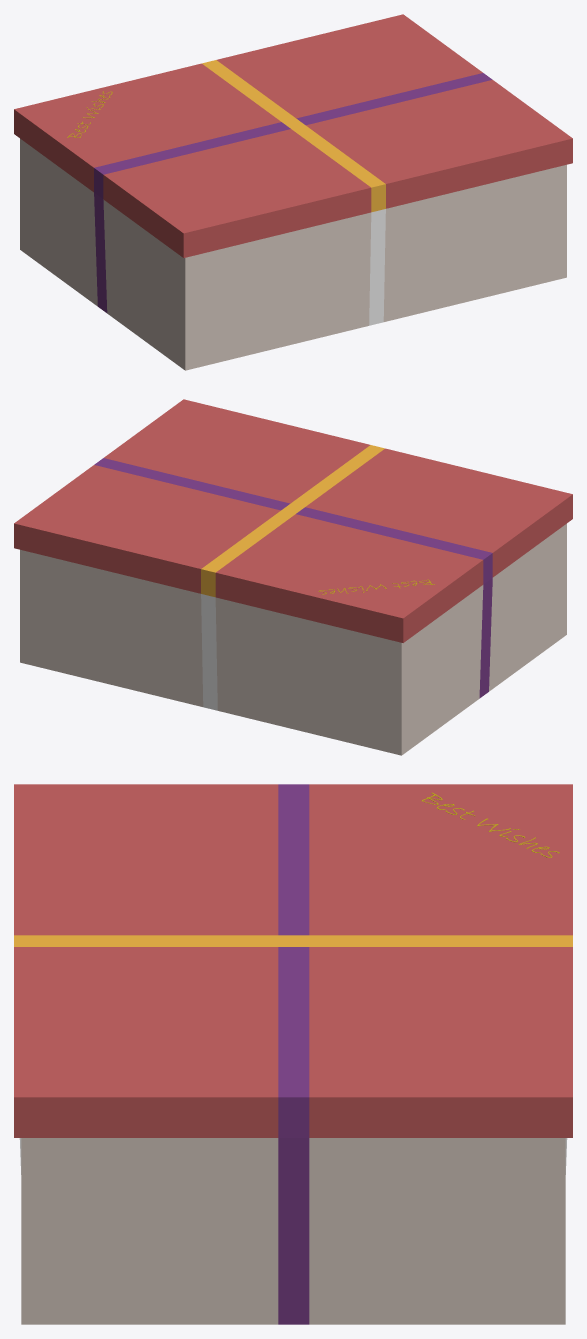
File: Gift+Box.obj
3 views of the same model, one above another, from view 1: azimuth 30°, elevation 25°; view 2: azimuth 150°, elevation 25°; view 3: azimuth 270°, elevation 25° (orthographic). The views are drawn at different scales.
Visible parts, largest first — view 1: Mesh12 Model; view 2: Mesh12 Model; view 3: Mesh12 Model.
Part boxes in pixels (box(x1,y1,x2,y2)): Mesh12 Model: box(14, 14, 572, 370); Mesh12 Model: box(14, 399, 572, 755); Mesh12 Model: box(14, 784, 572, 1324).
Bounding box in the file's own units: 8.03 × 2.76 × 6.06.
